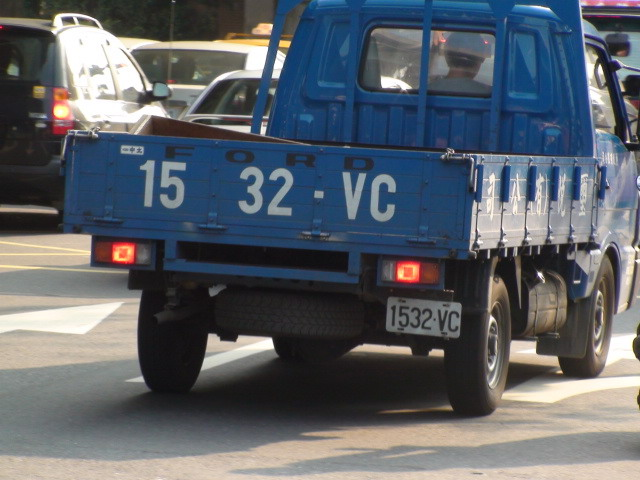plate: (386, 293, 464, 341)
